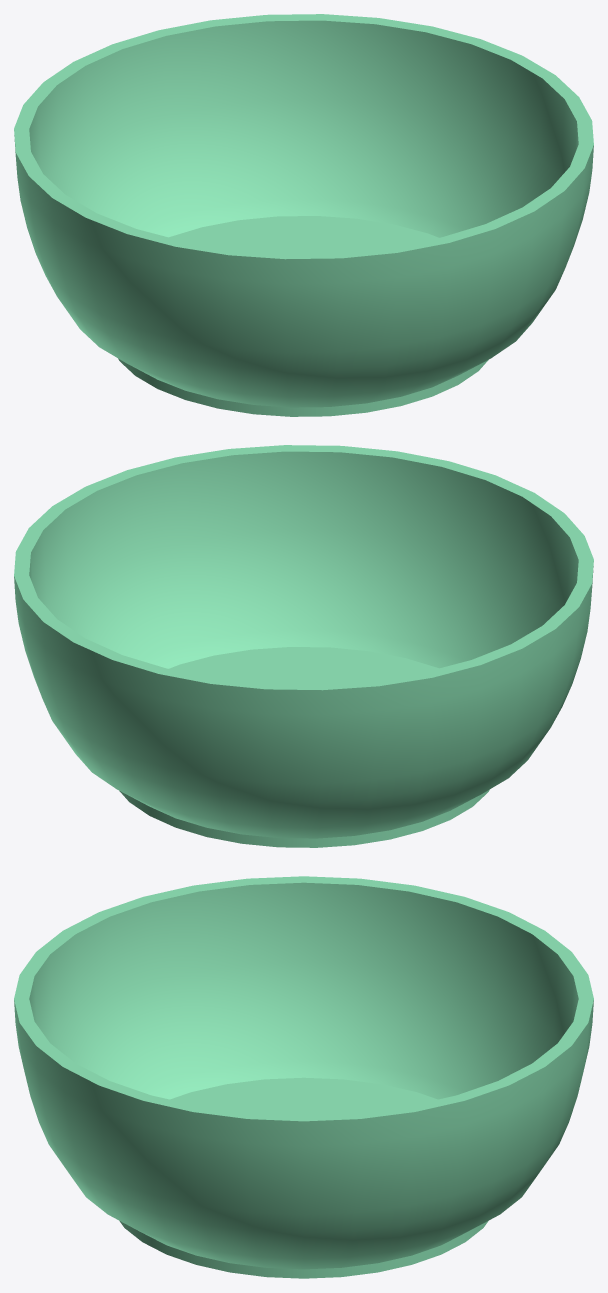
Rendered from bowl_scaled.fbx.
The picture shows the model from 3 angles, top to bottom: view 1: azimuth 30°, elevation 25°; view 2: azimuth 150°, elevation 25°; view 3: azimuth 270°, elevation 25°; orthographic projection.
Visible parts, largest first — view 1: Cylinder.001; view 2: Cylinder.001; view 3: Cylinder.001.
Part boxes in pixels (x1,y1,x2,y2): Cylinder.001: [14, 14, 593, 416]; Cylinder.001: [14, 445, 593, 847]; Cylinder.001: [14, 876, 593, 1278].
Size of the model in its own units: 12.65 by 4.76 by 12.65.
